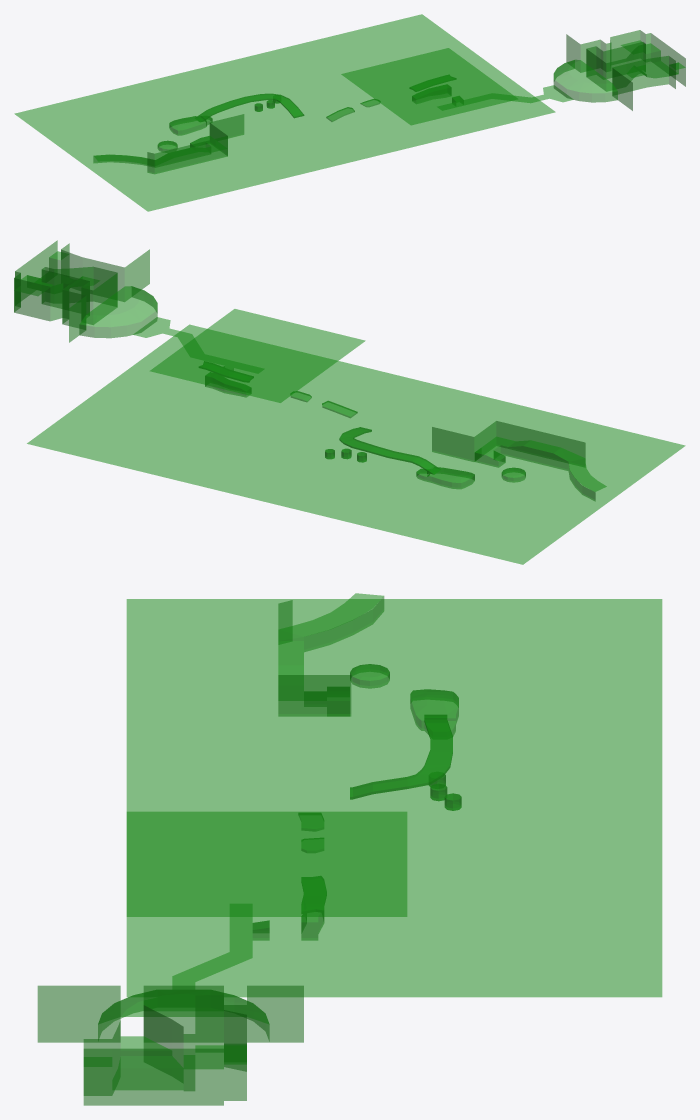
The model's file is camera_col.obj.
3 views of the same model, one above another, from view 1: azimuth 30°, elevation 25°; view 2: azimuth 150°, elevation 25°; view 3: azimuth 270°, elevation 25° (orthographic). The views are drawn at different scales.
Bounding box in the file's own units: 425 × 26 × 218.
